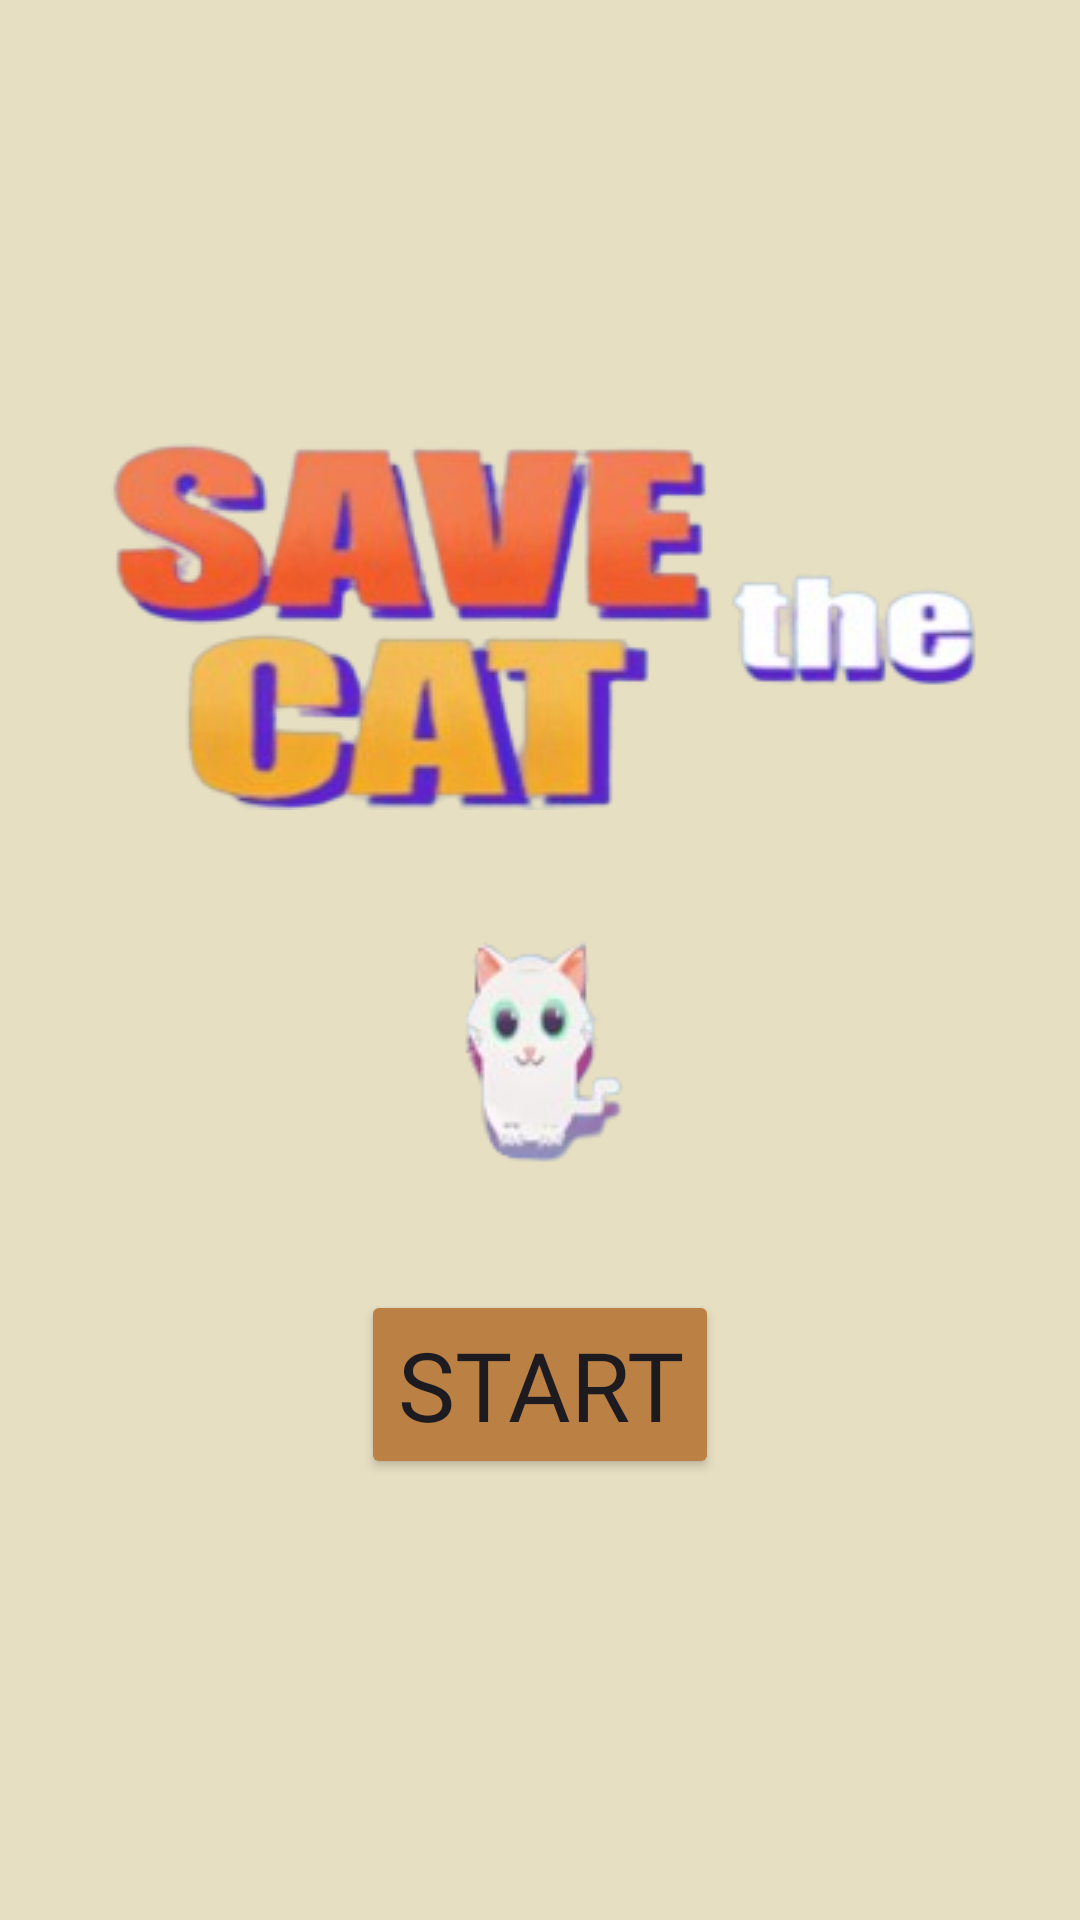

Where to tap for icons on this 1080px x 1920px app screen, as (x,y):
cat: (543,1052)
